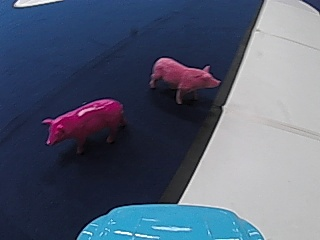pig: (39, 96, 127, 151), (147, 55, 221, 102)
